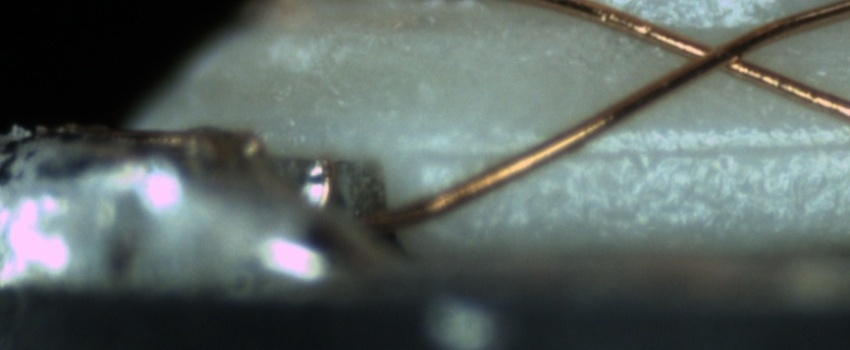CL: (673, 26, 775, 82)
DL: (413, 121, 849, 181)
TE: (86, 121, 275, 156)
